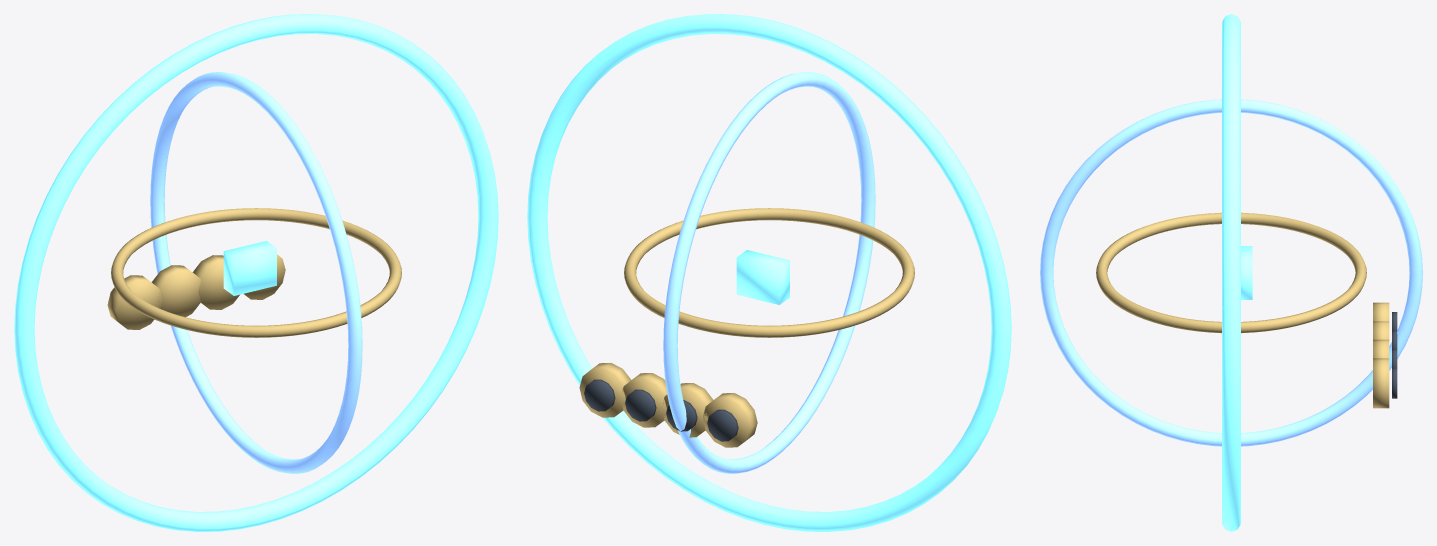
The model's file is L84_46_EstimatorUncertaintyDisplay_Fitted.fbx.
The picture shows the model from 3 angles, left to right: view 1: azimuth 30°, elevation 25°; view 2: azimuth 150°, elevation 25°; view 3: azimuth 270°, elevation 25°; orthographic projection. The views are drawn at different scales.
Visible parts, largest first — view 1: L84_EstimatorUncertaintyDisplay_Static__tint38CCFC, L84_EstimatorUncertaintyDisplay_Static__tintF2B547, L84_EstimatorUncertaintyDisplay_Static__tint3D78F5, L84_EstimatorUncertaintyDisplay_ANIM_ESTIMATOR_UNCERTAINTY_C; view 2: L84_EstimatorUncertaintyDisplay_Static__tint38CCFC, L84_EstimatorUncertaintyDisplay_Static__tint3D78F5, L84_EstimatorUncertaintyDisplay_Static__tintF2B547, L84_EstimatorUncertaintyDisplay_Static__tint131B26, L84_EstimatorUncertaintyDisplay_ANIM_ESTIMATOR_UNCERTAINTY_C; view 3: L84_EstimatorUncertaintyDisplay_Static__tint3D78F5, L84_EstimatorUncertaintyDisplay_Static__tint38CCFC, L84_EstimatorUncertaintyDisplay_Static__tintF2B547, L84_EstimatorUncertaintyDisplay_ANIM_ESTIMATOR_UNCERTAINTY_C, L84_EstimatorUncertaintyDisplay_Static__tint131B26.
Part boxes in pixels (x1,y1,x2,y2): L84_EstimatorUncertaintyDisplay_Static__tint38CCFC: [14, 14, 498, 531]; L84_EstimatorUncertaintyDisplay_Static__tintF2B547: [107, 208, 401, 337]; L84_EstimatorUncertaintyDisplay_Static__tint3D78F5: [150, 72, 362, 473]; L84_EstimatorUncertaintyDisplay_ANIM_ESTIMATOR_UNCERTAINTY_C: [223, 241, 276, 295]; L84_EstimatorUncertaintyDisplay_Static__tint38CCFC: [527, 14, 1011, 531]; L84_EstimatorUncertaintyDisplay_Static__tint3D78F5: [663, 72, 875, 473]; L84_EstimatorUncertaintyDisplay_Static__tintF2B547: [579, 208, 914, 447]; L84_EstimatorUncertaintyDisplay_Static__tint131B26: [584, 379, 738, 441]; L84_EstimatorUncertaintyDisplay_ANIM_ESTIMATOR_UNCERTAINTY_C: [736, 250, 789, 304]; L84_EstimatorUncertaintyDisplay_Static__tint3D78F5: [1040, 99, 1422, 446]; L84_EstimatorUncertaintyDisplay_Static__tint38CCFC: [1222, 14, 1240, 531]; L84_EstimatorUncertaintyDisplay_Static__tintF2B547: [1096, 212, 1389, 408]; L84_EstimatorUncertaintyDisplay_ANIM_ESTIMATOR_UNCERTAINTY_C: [1241, 246, 1252, 299]; L84_EstimatorUncertaintyDisplay_Static__tint131B26: [1392, 312, 1397, 398].
Size of the model in its own units: 12.96 by 12.96 by 9.58.
